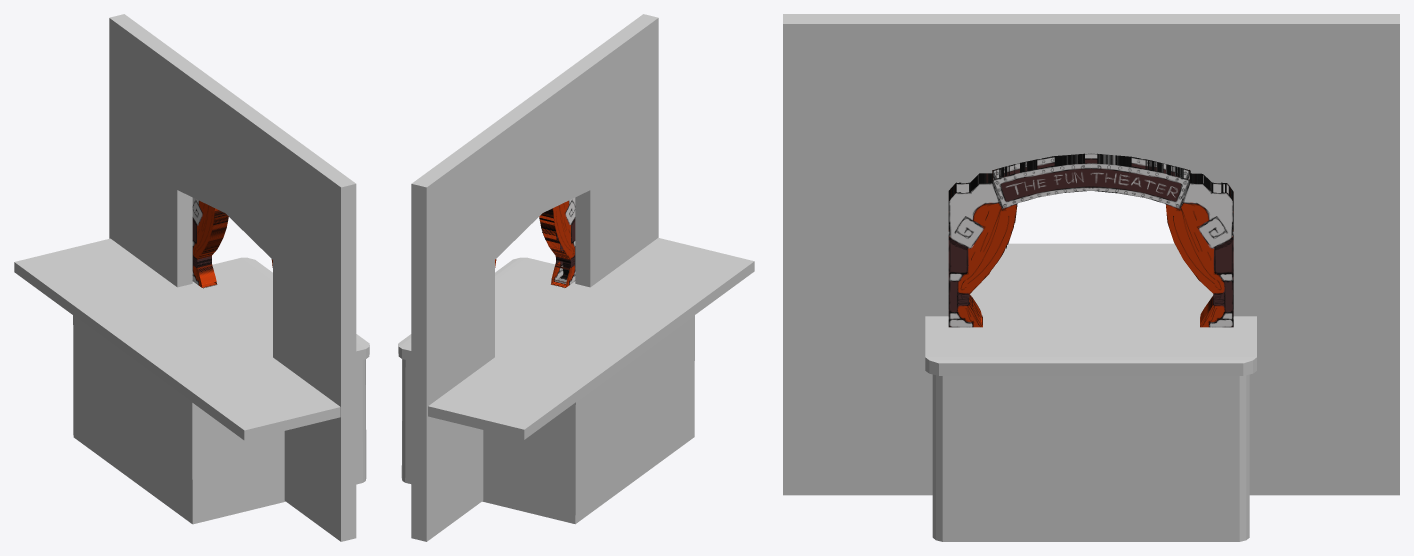
Rendered from TheaterGate.fbx.
3 views of the same model, side by side, from view 1: azimuth 30°, elevation 25°; view 2: azimuth 150°, elevation 25°; view 3: azimuth 270°, elevation 25° (orthographic). The views are drawn at different scales.
Parts seen in each view (by area): view 1: Wall, Floor, Untitled_Artwork; view 2: Wall, Floor, Untitled_Artwork; view 3: Wall, Floor, Untitled_Artwork.
Part boxes in pixels (box(x1,y1,x2,y2)): Wall: box(109, 14, 356, 541); Floor: box(14, 238, 369, 524); Untitled_Artwork: box(192, 198, 272, 288); Wall: box(411, 14, 658, 541); Floor: box(398, 238, 754, 524); Untitled_Artwork: box(495, 197, 575, 287); Wall: box(783, 14, 1399, 495); Floor: box(925, 243, 1256, 541); Untitled_Artwork: box(948, 153, 1233, 327).
Size of the model in its own units: 310 by 575 by 680.
